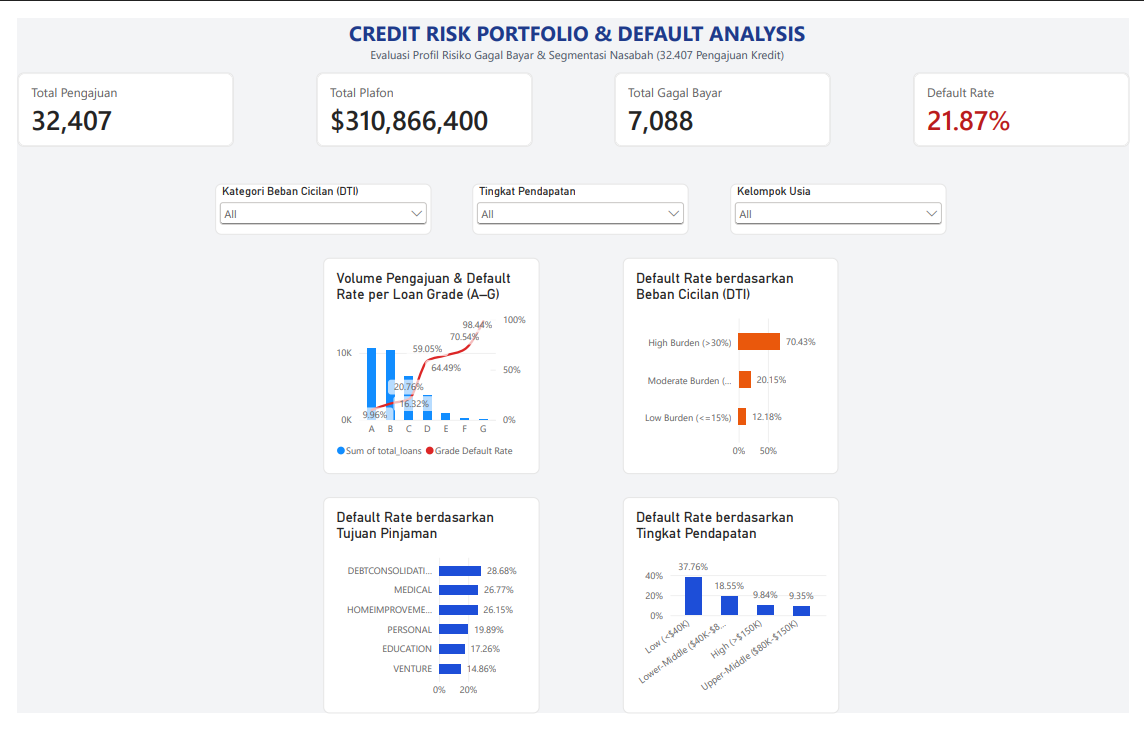

What the dashboard file says about the page in this screenshot:
{"tool":"powerbi","page":{"name":"Page 1","canvas":[1440,900],"ordinal":0},"visuals":[{"type":"textbox","box":[10,0,280,280],"z":0},{"type":"textbox","box":[10,0,1430,70],"z":1000},{"type":"cardVisual","fields":{"Data":["v_risk_segmentation.Total Pengajuan"]},"box":[0,70,280,96.2],"z":2000},{"type":"cardVisual","fields":{"Data":["v_risk_segmentation.Total Gagal Bayar"]},"box":[773.3,70,280,96.2],"z":3000},{"type":"cardVisual","fields":{"Data":["v_risk_segmentation.Total Plafon"]},"box":[386.7,70,280,96.2],"z":4000},{"type":"cardVisual","fields":{"Data":["v_risk_segmentation.Default Rate"]},"box":[1160,70,280,96.2],"z":5000},{"type":"slicer","fields":{"Values":["v_risk_segmentation.dti_category"]},"box":[256.2,213.8,280,66.2],"z":6000},{"type":"slicer","fields":{"Values":["v_risk_segmentation.income_tier"]},"box":[589.4,213.8,280,66.2],"z":7000},{"type":"slicer","fields":{"Values":["v_risk_segmentation.age_group"]},"box":[922.5,213.8,280,66.2],"z":8000},{"type":"lineStackedColumnComboChart","title":"Volume Pengajuan & Default Rate per Loan Grade (A–G)","fields":{"Category":["v_risk_by_grade.loan_grade"],"Y":["Sum(v_risk_by_grade.total_loans)"],"Y2":["v_risk_by_grade.Grade Default Rate"]},"box":[396.2,310,280,280],"z":9000},{"type":"clusteredBarChart","title":"Default Rate berdasarkan Beban Cicilan (DTI)","fields":{"Category":["v_risk_segmentation.dti_category"],"Y":["v_risk_segmentation.Default Rate"]},"box":[783.8,310,279,280],"z":10000},{"type":"clusteredBarChart","title":"Default Rate berdasarkan Tujuan Pinjaman","fields":{"Category":["v_risk_segmentation.loan_intent"],"Y":["v_risk_segmentation.Default Rate"]},"box":[396,620,280,280],"z":11000},{"type":"clusteredColumnChart","title":"Default Rate berdasarkan Tingkat Pendapatan","fields":{"Category":["v_risk_segmentation.income_tier"],"Y":["v_risk_segmentation.Default Rate"]},"box":[784,620,280,280],"z":12000}]}

Visuals, with their boxes in screenshot pixels (x1, y1, x2, y2), scaled from the page's 1440x900 canvas onto the 1144x730 screenshot:
textbox: 8,0,230,227
textbox: 8,0,1143,57
cardVisual - v_risk_segmentation.Total Pengajuan: 0,57,222,135
cardVisual - v_risk_segmentation.Total Gagal Bayar: 614,57,837,135
cardVisual - v_risk_segmentation.Total Plafon: 307,57,530,135
cardVisual - v_risk_segmentation.Default Rate: 922,57,1143,135
slicer - v_risk_segmentation.dti_category: 204,173,426,227
slicer - v_risk_segmentation.income_tier: 468,173,691,227
slicer - v_risk_segmentation.age_group: 733,173,955,227
"Volume Pengajuan & Default Rate per Loan Grade (A–G)" lineStackedColumnComboChart: 315,251,537,479
"Default Rate berdasarkan Beban Cicilan (DTI)" clusteredBarChart: 623,251,844,479
"Default Rate berdasarkan Tujuan Pinjaman" clusteredBarChart: 315,503,537,729
"Default Rate berdasarkan Tingkat Pendapatan" clusteredColumnChart: 623,503,845,729
